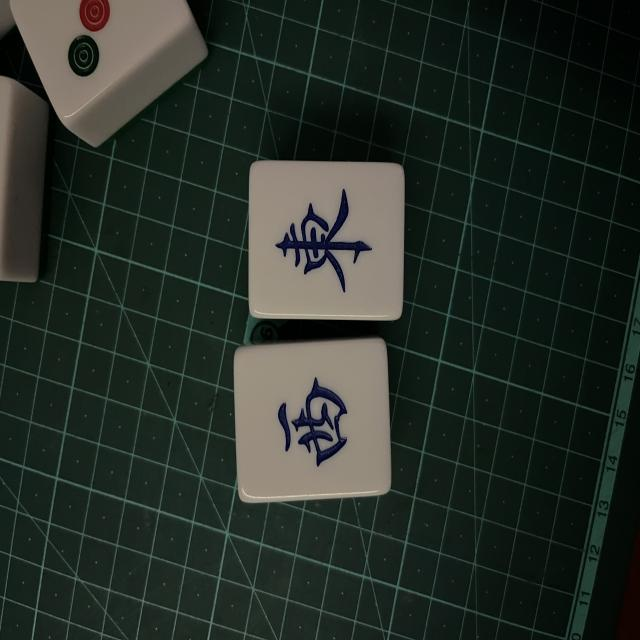east: (254, 168, 400, 314)
west: (235, 346, 384, 498)
